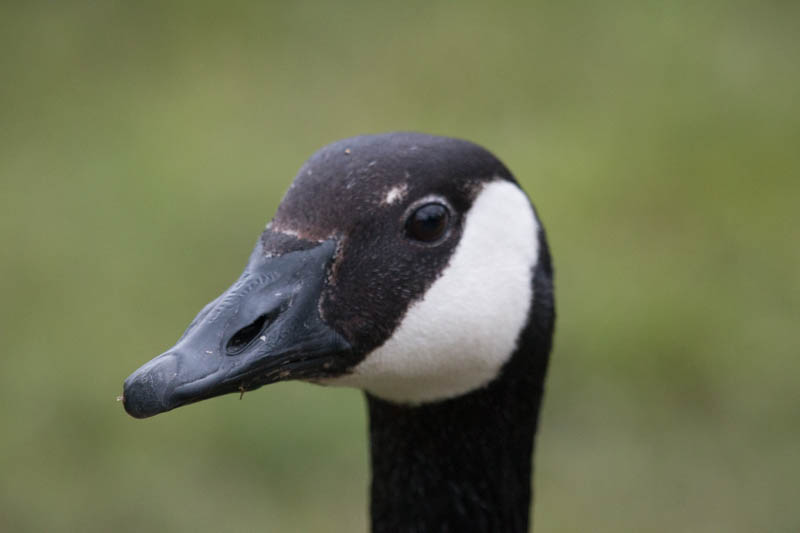goose-head: (124, 132, 556, 418)
